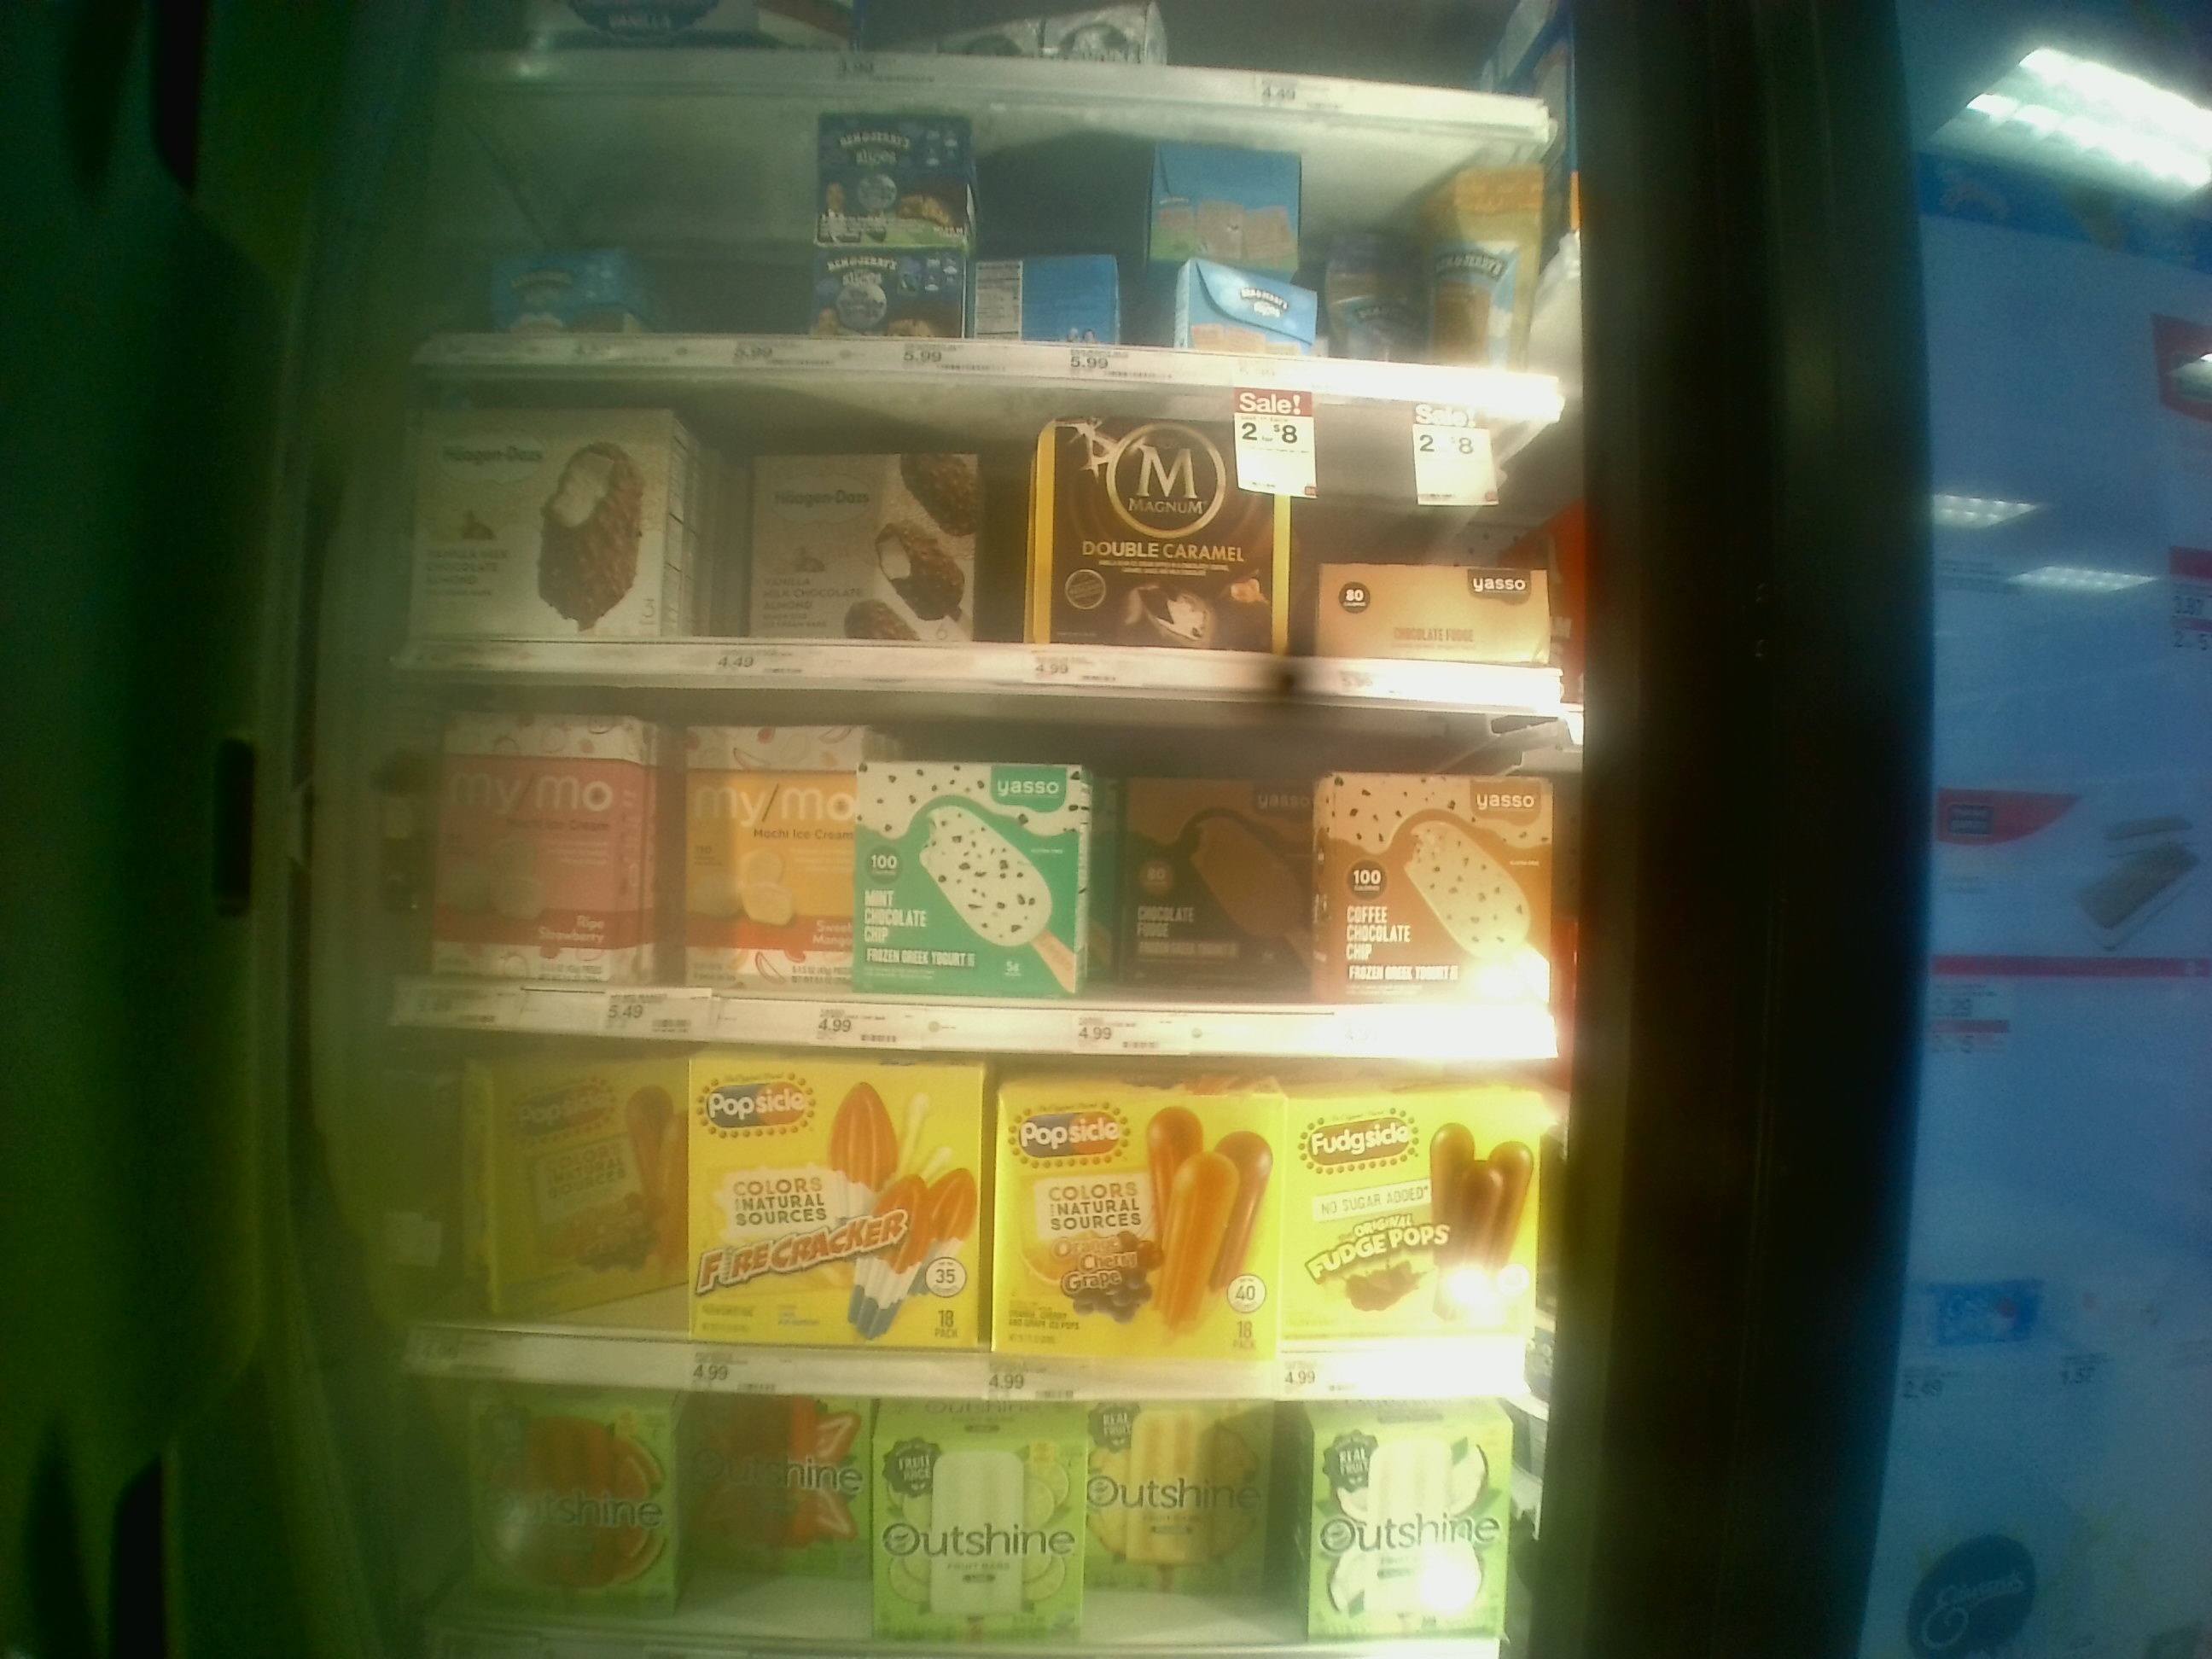shelf: (394, 697, 1590, 1042), (394, 1033, 1550, 1384), (388, 364, 1588, 699)
